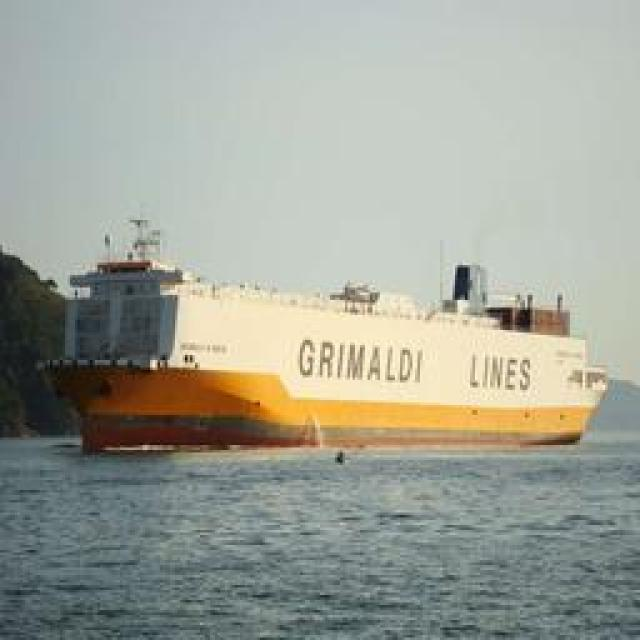ship2: (41, 216, 610, 457)
